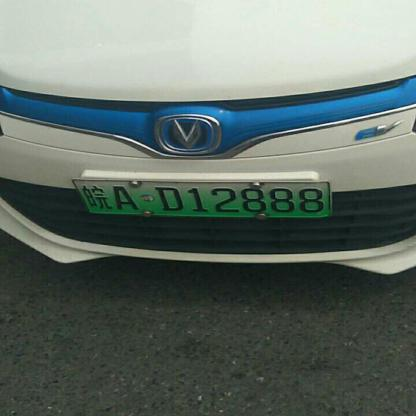lp: (72, 180, 329, 214)
